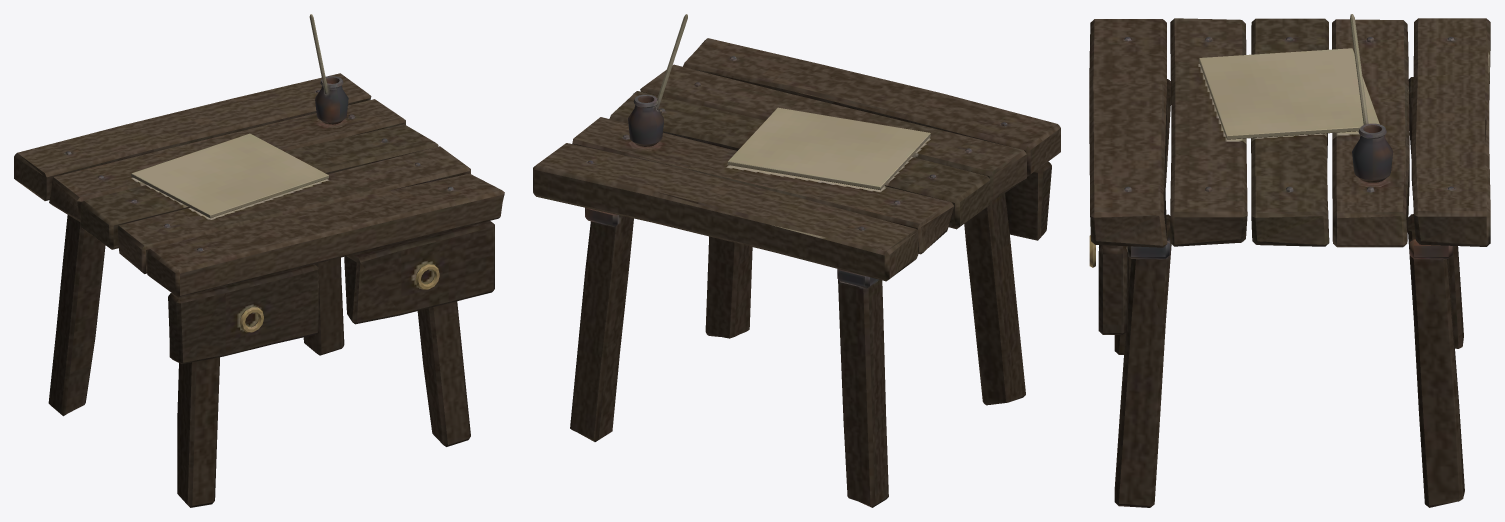
The model's file is desk.glb.
3 views of the same model, side by side, from view 1: azimuth 30°, elevation 25°; view 2: azimuth 150°, elevation 25°; view 3: azimuth 270°, elevation 25° (orthographic). The views are drawn at different scales.
Parts seen in each view (by area): view 1: desk; view 2: desk; view 3: desk.
Boxes of the visible parts, box(x1,y1,x2,y2) form: desk: box(14, 14, 504, 507); desk: box(533, 14, 1060, 507); desk: box(1089, 14, 1490, 507).
Bounding box in the file's own units: 0.9042 × 0.977 × 0.7753.
Materials: 1 (1 with a texture image).
